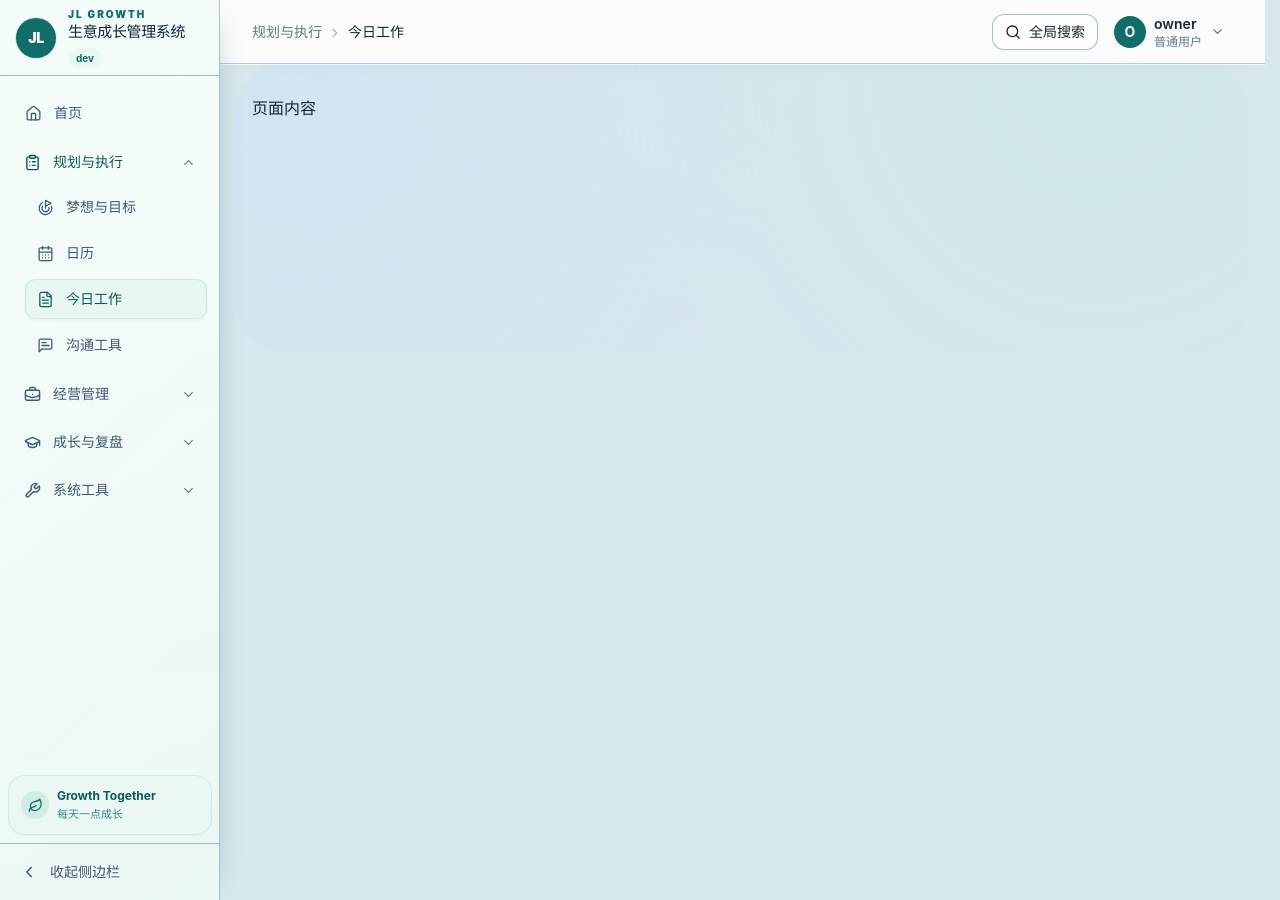
Test: AppShell navigation › keeps user groups independently expanded and supports desktop collapse
Click the button "成长与复盘": (110, 442) [12,422,208,462]
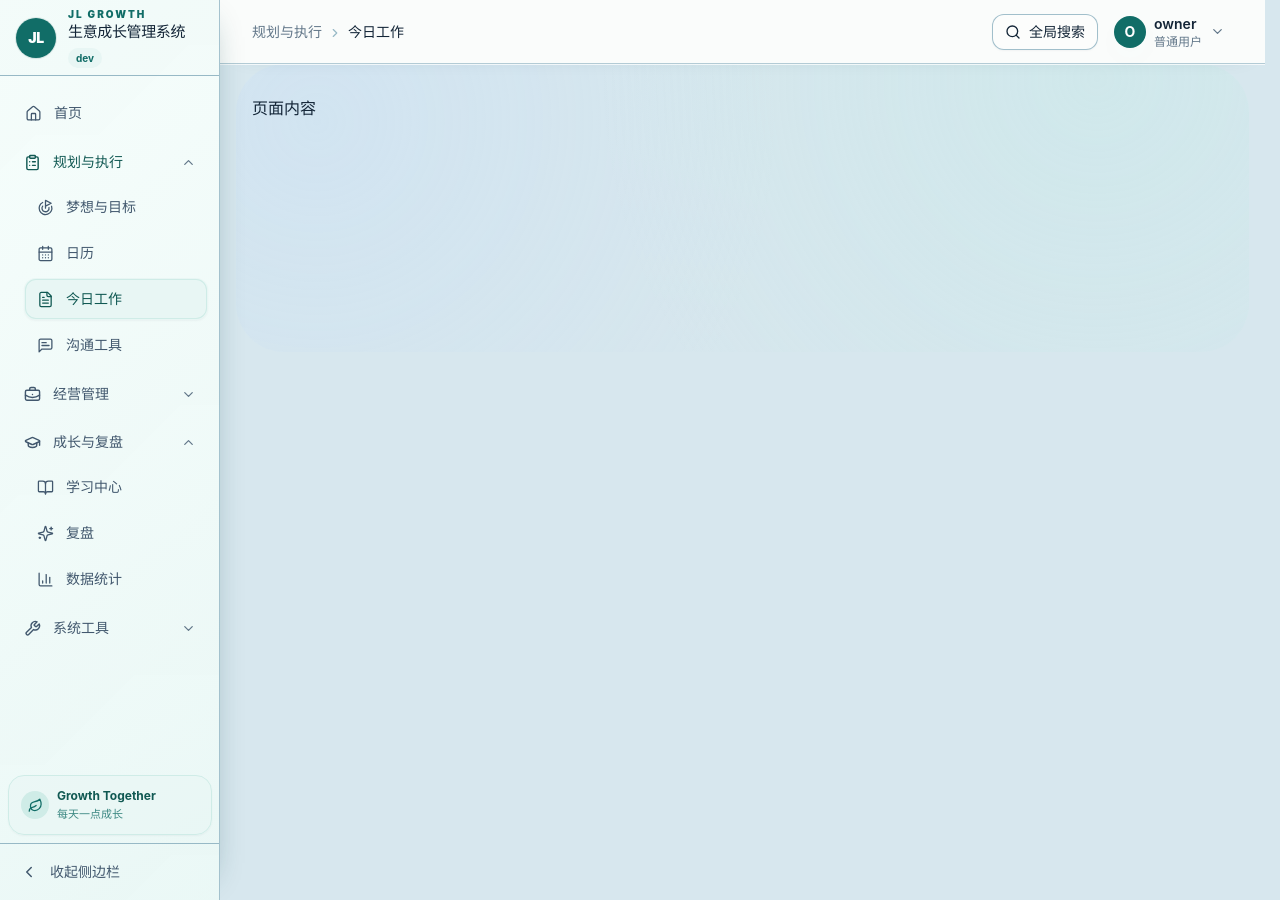
Result: the button "成长与复盘" is expanded at [12,422,208,462]
Click the button "规划与执行": (110, 162) [12,142,208,182]
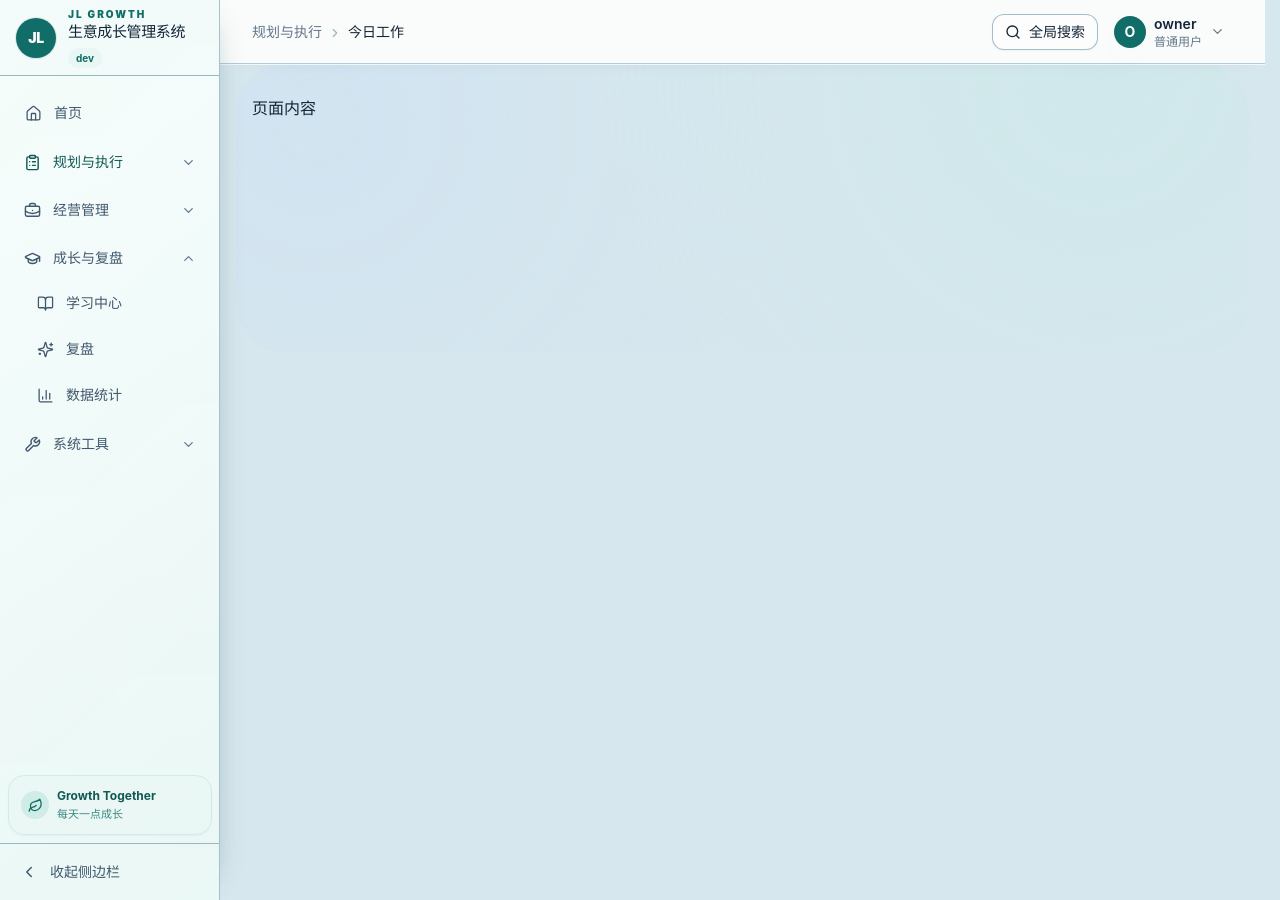
Result: the button "成长与复盘" is expanded at [12,238,208,278]
Result: the button "规划与执行" is collapsed at [12,142,208,182]
Click the button "收起侧边栏": (110, 872) [8,852,212,892]
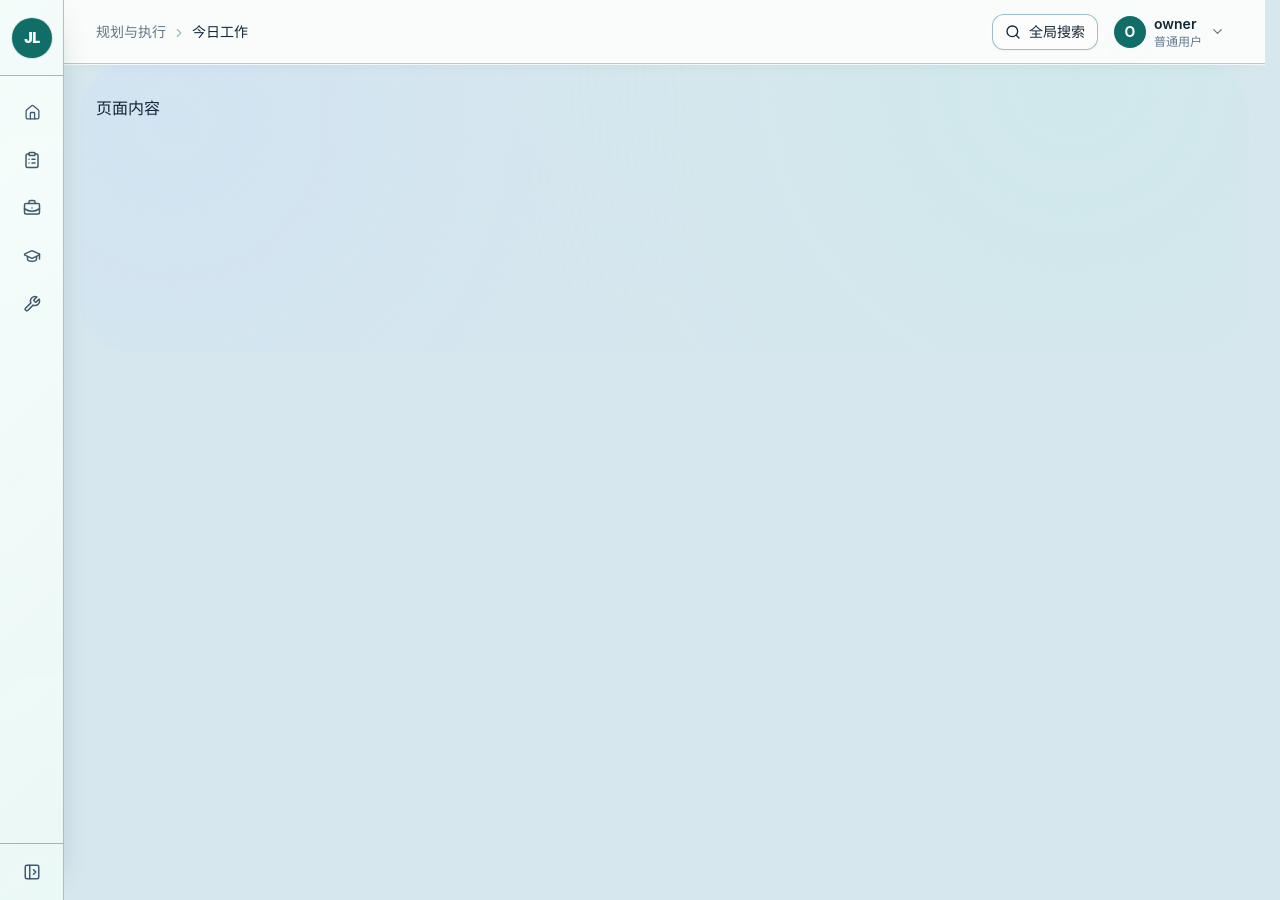
Result: the button named "展开侧边栏" is shown at [8,852,56,892]
